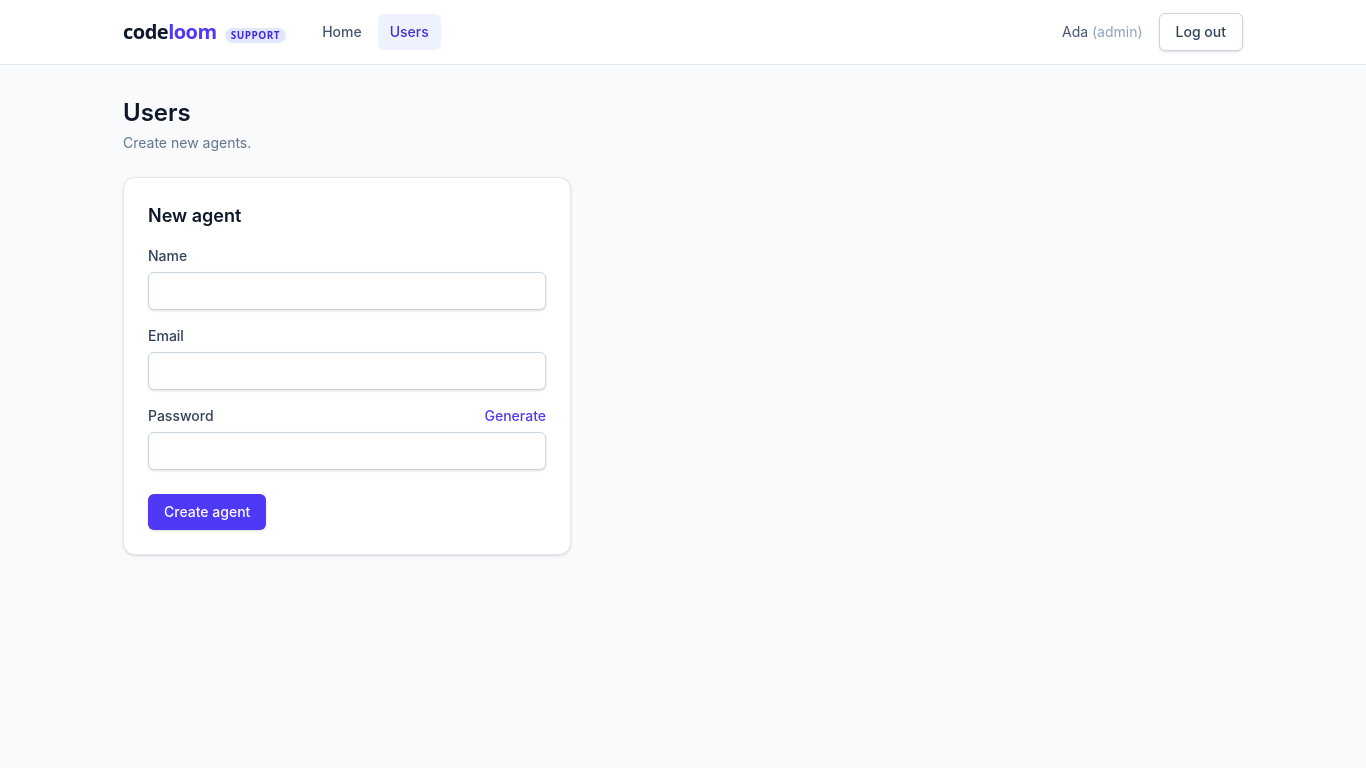
Test: UsersPage › creates an agent and clears the form
The width and height of the screenshot is (1366, 768).
Type "Alan" into the field labelled "Name" at {"x": 347, "y": 291}, box [148,272,546,310]
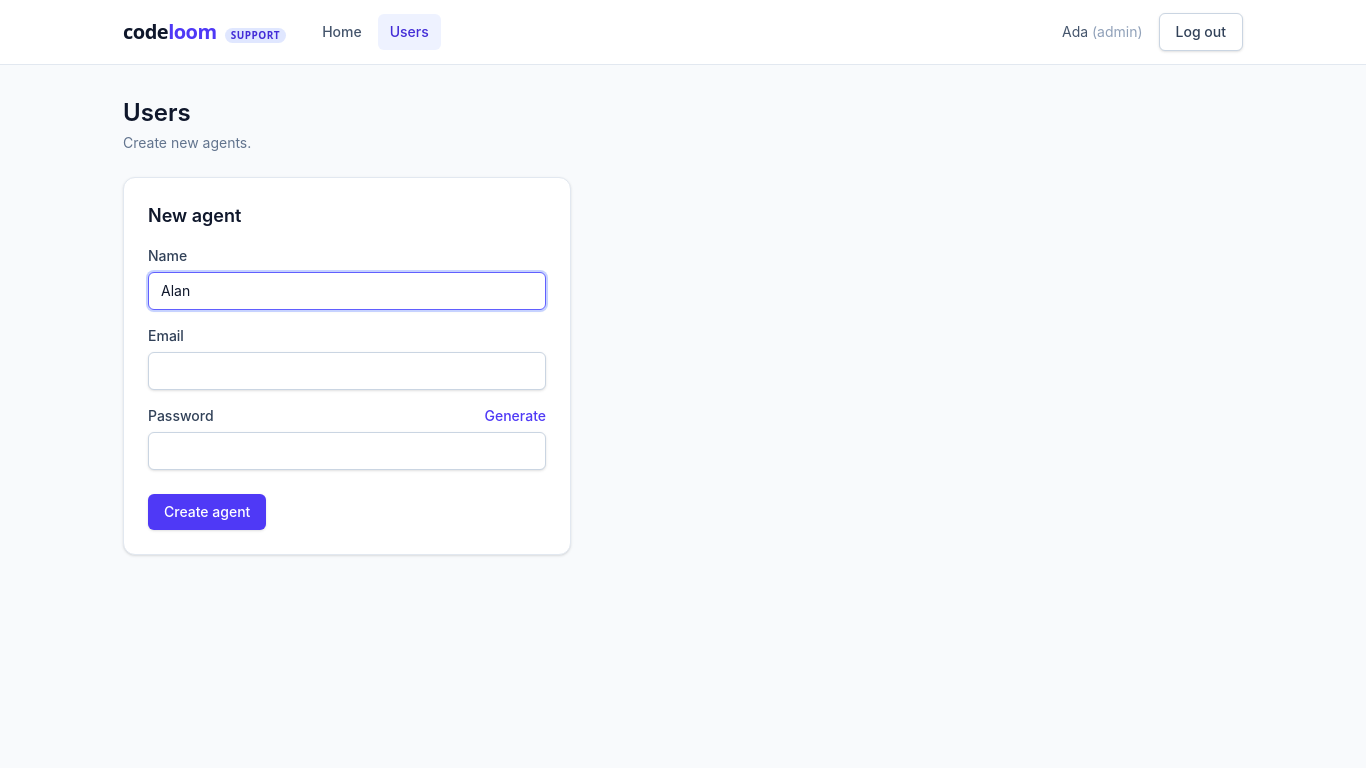
Type "alan@example.com" into the field labelled "Email" at {"x": 347, "y": 371}, box [148,352,546,390]
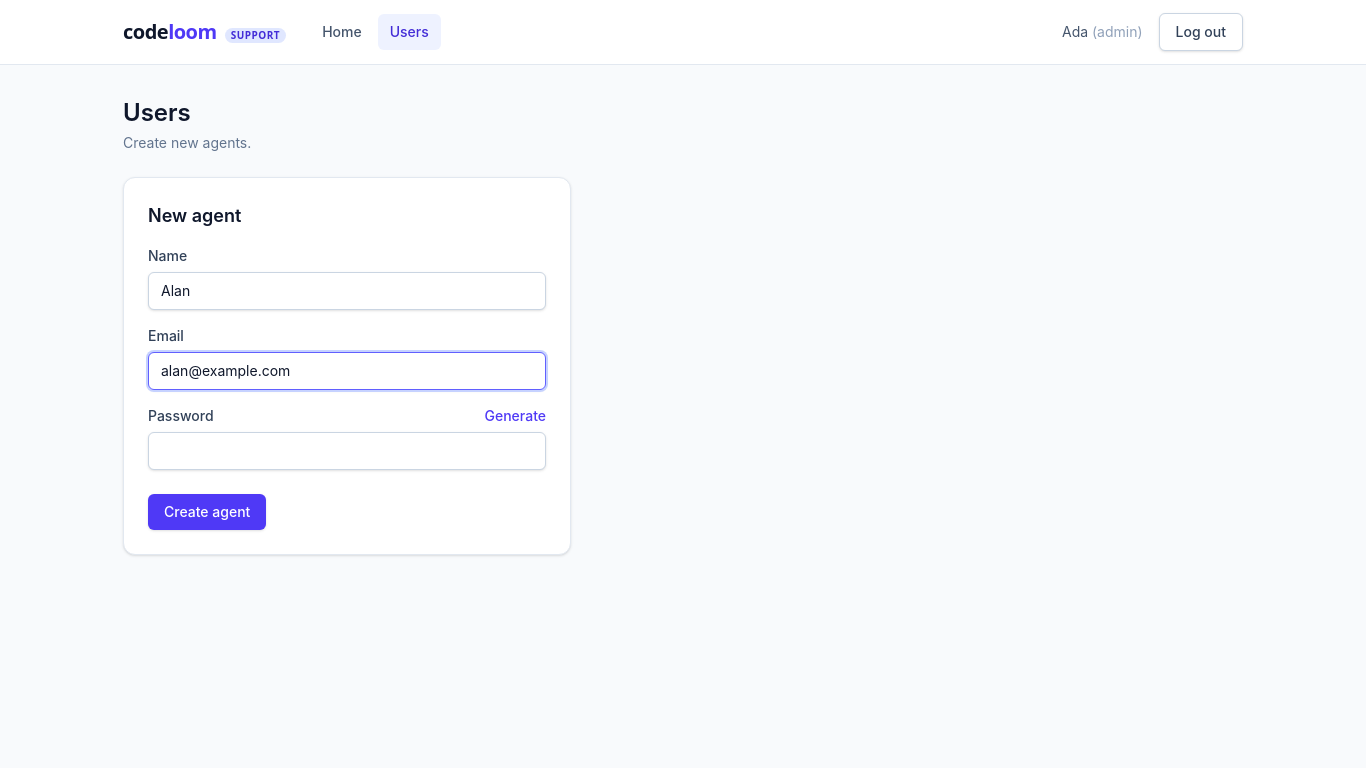
Type "secret123" into the field labelled "Password" at {"x": 347, "y": 451}, box [148,432,546,470]
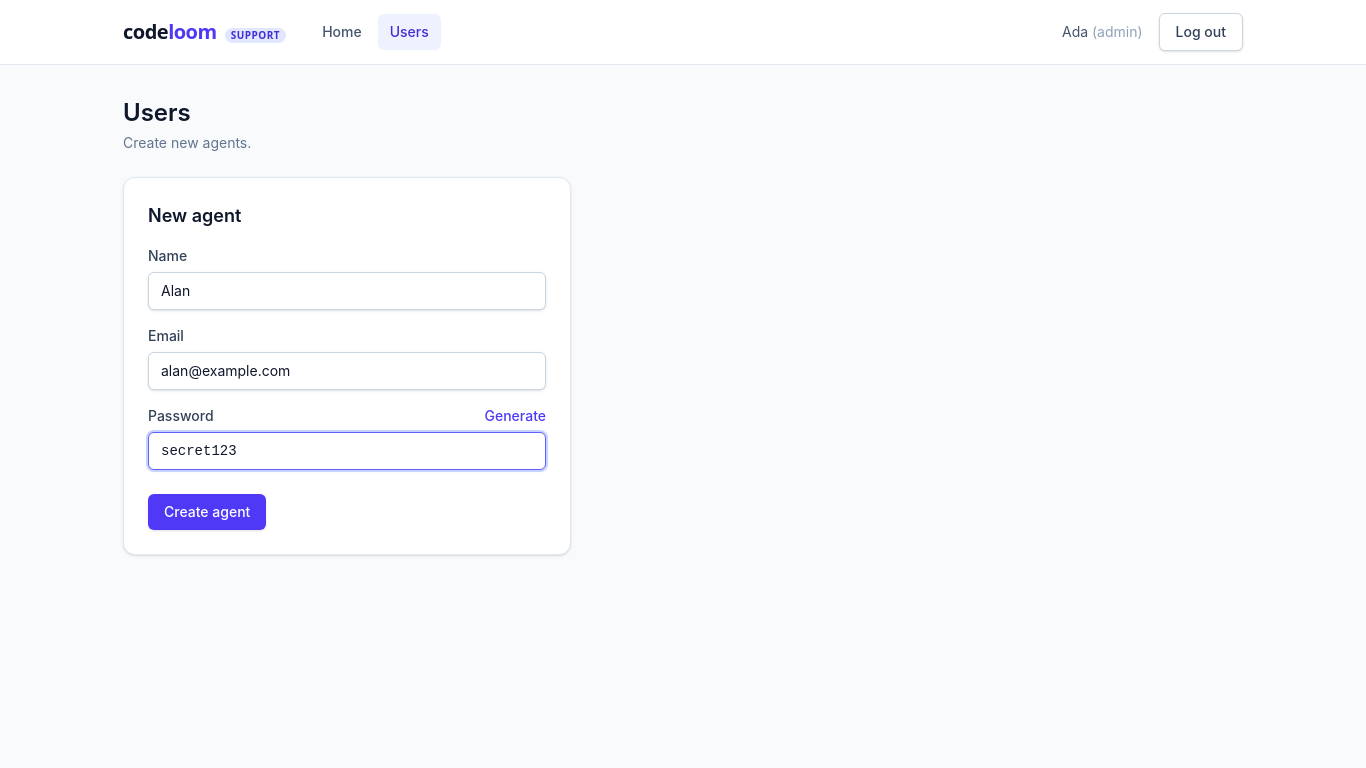
Click the button "Create agent" at {"x": 207, "y": 512}, box [148,494,266,530]
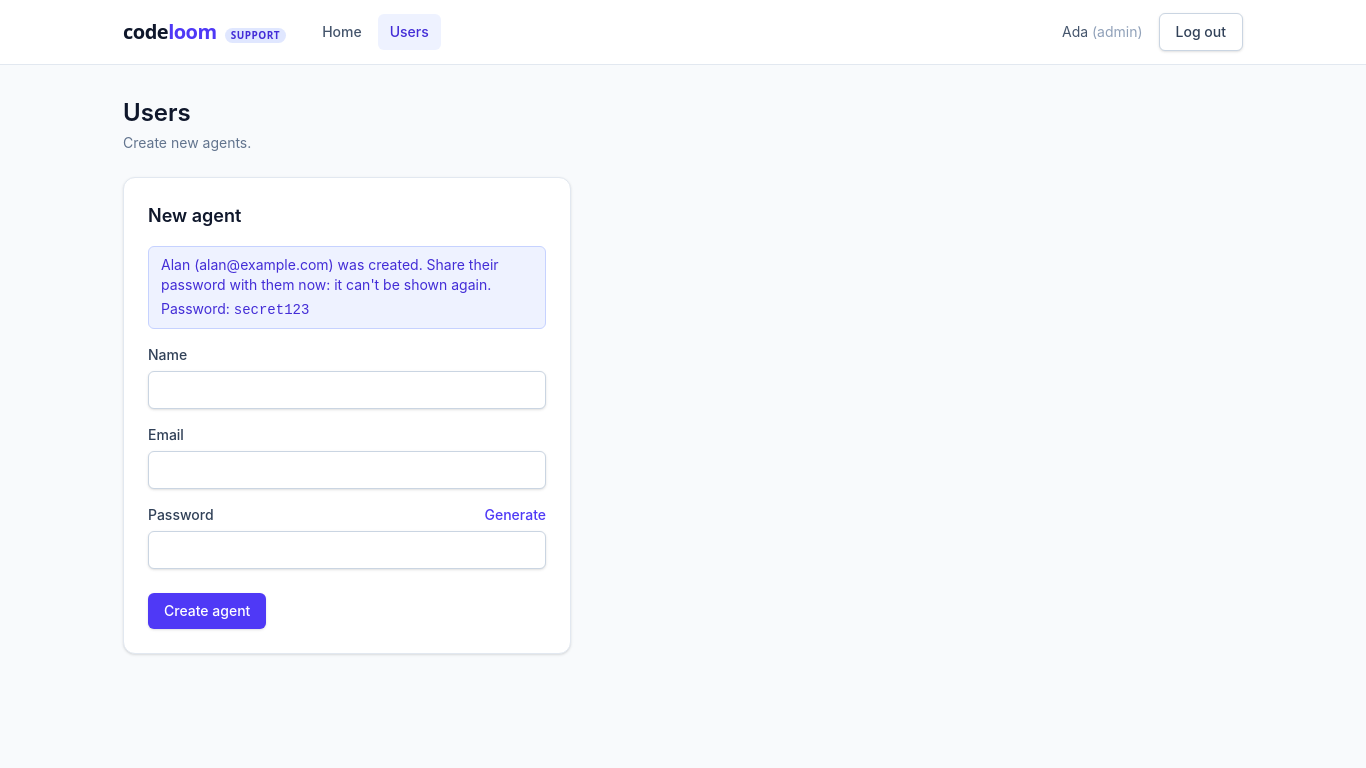
expect the message shows "Alan (alan@example.com) was created": met, box [148,246,546,329]
expect the field labelled "Name" is empty: met, box [148,371,546,409]
